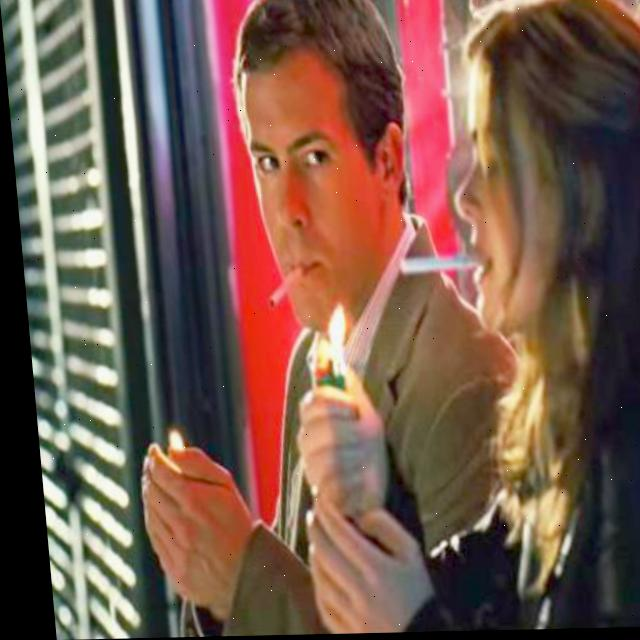cigarette: (390, 250, 484, 279), (261, 260, 308, 311)
